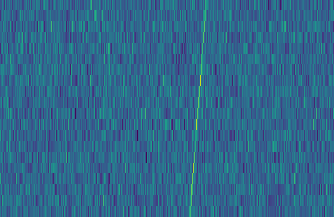signal: (185, 0, 211, 217)
